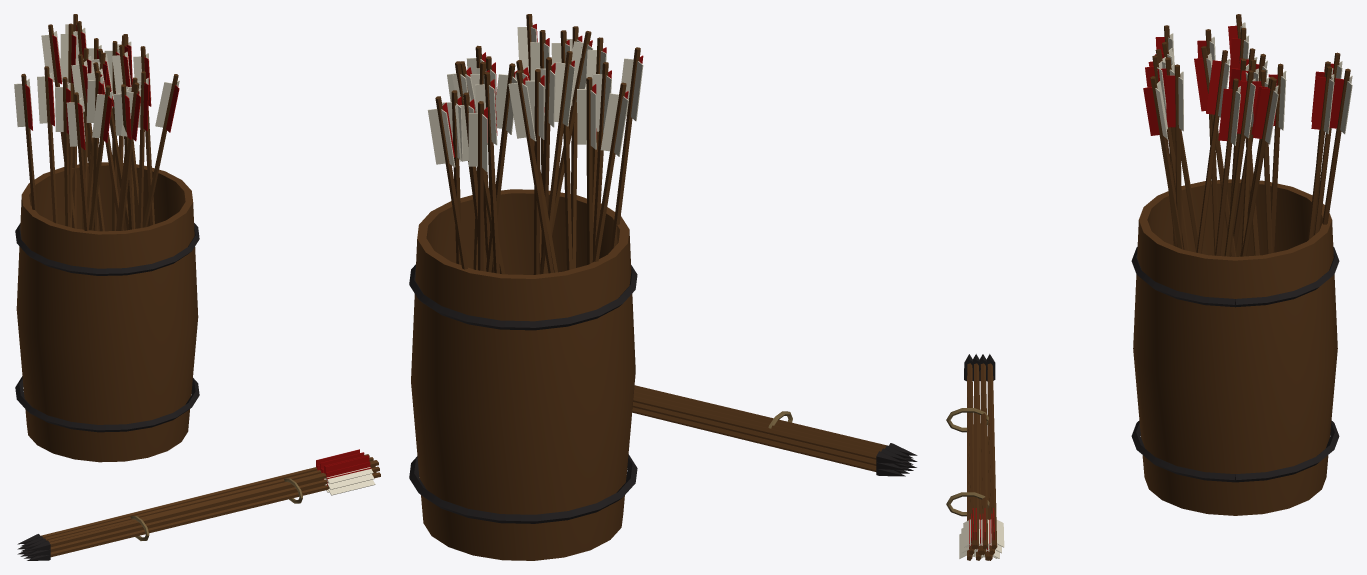
Rendered from pfeilbuendel.glb.
3 views of the same model, side by side, from view 1: azimuth 30°, elevation 25°; view 2: azimuth 150°, elevation 25°; view 3: azimuth 270°, elevation 25° (orthographic). The views are drawn at different scales.
Visible parts, largest first — view 1: pfeilbuendel; view 2: pfeilbuendel; view 3: pfeilbuendel.
Boxes of the visible parts, x1,y1,x2,y2 form: pfeilbuendel: (14,14,380,560); pfeilbuendel: (409,14,917,560); pfeilbuendel: (946,14,1352,560).
Size of the model in its own units: 0.805 by 0.8159 by 0.7145.
